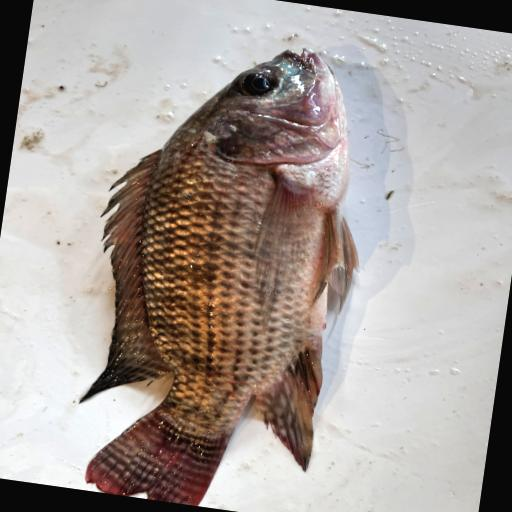Tilapia: (61, 21, 389, 512)
